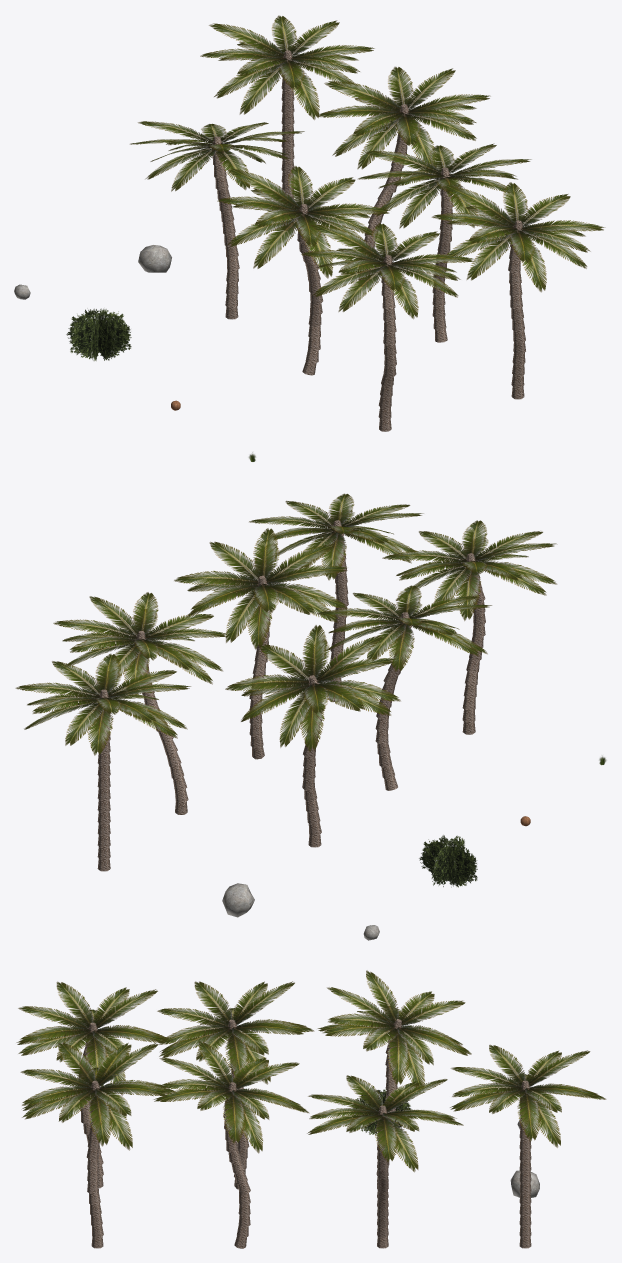
The model's file is palmtree.glb.
3 renders of one model, top to bottom at view 1: azimuth 30°, elevation 25°; view 2: azimuth 150°, elevation 25°; view 3: azimuth 270°, elevation 25°, orthographic. The views are drawn at different scales.
Parts seen in each view (by area): view 1: palm_tree.003, palm_tree, palm_tree.005, palm_tree.002, leaves, palm_tree.001, palm_tree.004, bush, trunk, large_stone; view 2: palm_tree.004, palm_tree.001, palm_tree.005, palm_tree.002, leaves, palm_tree, palm_tree.003, bush, trunk, large_stone; view 3: palm_tree.003, palm_tree.001, palm_tree.004, palm_tree, palm_tree.002, palm_tree.005, leaves, trunk, bush, large_stone.
Boxes of the visible parts, bbox=[...] form: palm_tree.003: bbox=[432, 182, 604, 399]; palm_tree: bbox=[217, 166, 390, 375]; palm_tree.005: bbox=[317, 66, 490, 286]; palm_tree.002: bbox=[301, 223, 474, 431]; leaves: bbox=[200, 15, 374, 119]; palm_tree.001: bbox=[358, 143, 531, 342]; palm_tree.004: bbox=[130, 121, 304, 319]; bush: bbox=[66, 308, 131, 360]; trunk: bbox=[281, 50, 294, 230]; large_stone: bbox=[138, 245, 171, 272]; palm_tree.004: bbox=[225, 625, 400, 847]; palm_tree.001: bbox=[174, 528, 347, 759]; palm_tree.005: bbox=[53, 592, 228, 814]; palm_tree.002: bbox=[382, 520, 556, 734]; leaves: bbox=[15, 653, 190, 755]; palm_tree: bbox=[316, 585, 491, 790]; palm_tree.003: bbox=[249, 493, 423, 701]; bush: bbox=[419, 835, 477, 887]; trunk: bbox=[97, 689, 110, 871]; large_stone: bbox=[222, 883, 254, 917]; palm_tree.003: bbox=[20, 1042, 176, 1248]; palm_tree.001: bbox=[153, 1041, 309, 1248]; palm_tree.004: bbox=[318, 970, 471, 1185]; palm_tree: bbox=[157, 981, 314, 1189]; palm_tree.002: bbox=[16, 981, 167, 1188]; palm_tree.005: bbox=[307, 1075, 463, 1248]; leaves: bbox=[450, 1044, 606, 1147]; trunk: bbox=[519, 1080, 531, 1248]; bush: bbox=[352, 1089, 411, 1135]; large_stone: bbox=[510, 1170, 539, 1197].
Bounding box in the file's own units: 31.03 × 15.25 × 41.64.
Materials: 7 (7 with a texture image).
